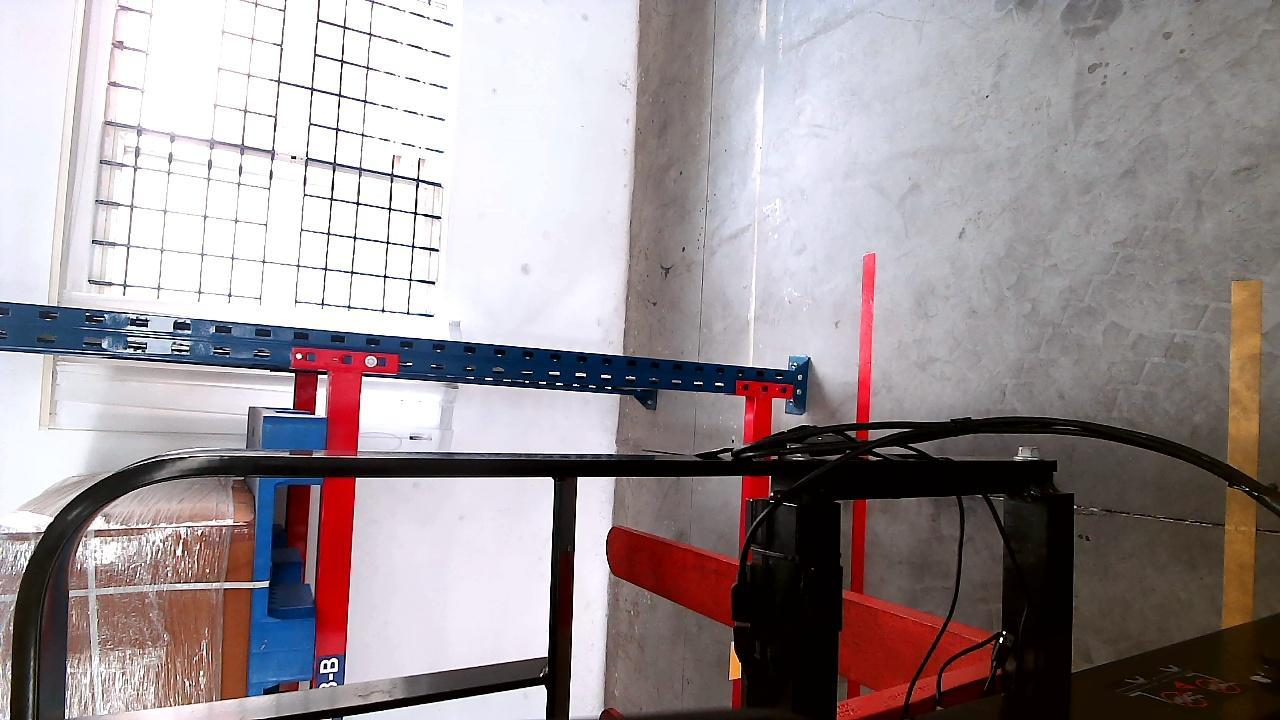red_line: (848, 254, 875, 592)
yellow_line: (1226, 279, 1262, 637)
